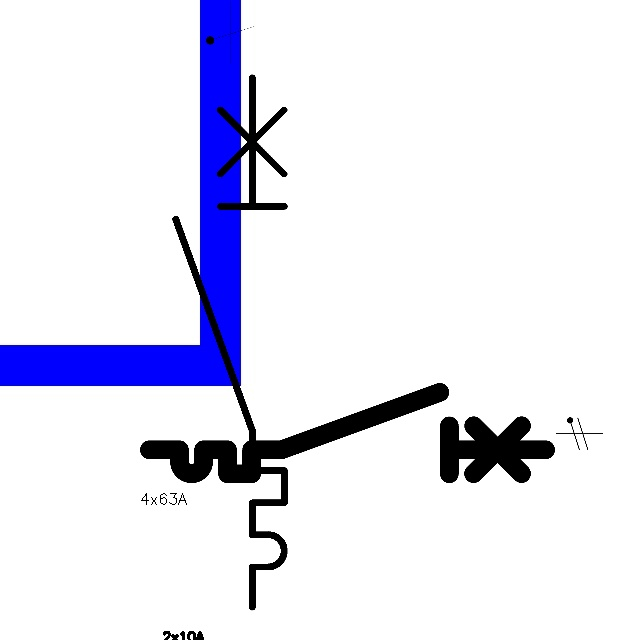interruptor_termomagnetico: (162, 64, 298, 621), (139, 382, 555, 484)
